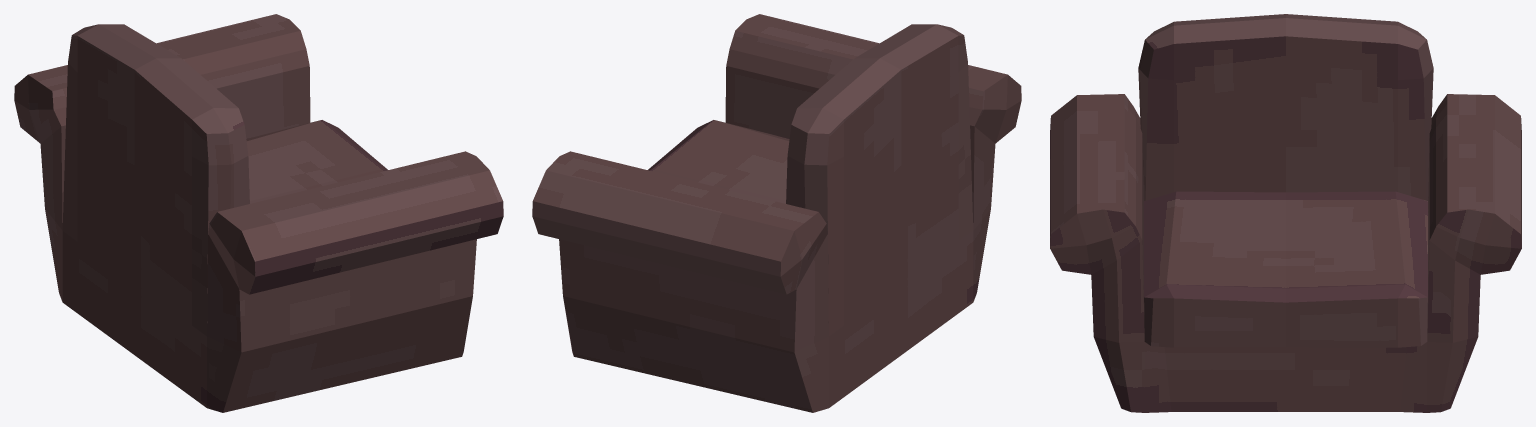
Rendered from Sofa2.fbx.
3 views of the same model, side by side, from view 1: azimuth 30°, elevation 25°; view 2: azimuth 150°, elevation 25°; view 3: azimuth 270°, elevation 25° (orthographic). The views are drawn at different scales.
Visible parts, largest first — view 1: Cube.007; view 2: Cube.007; view 3: Cube.007.
Part boxes in pixels (<box>): Cube.007: <box>14,14,503,412</box>; Cube.007: <box>532,14,1021,412</box>; Cube.007: <box>1050,14,1521,412</box>.
Size of the model in its own units: 489 by 530 by 772.
Materials: 1 (1 with a texture image).
